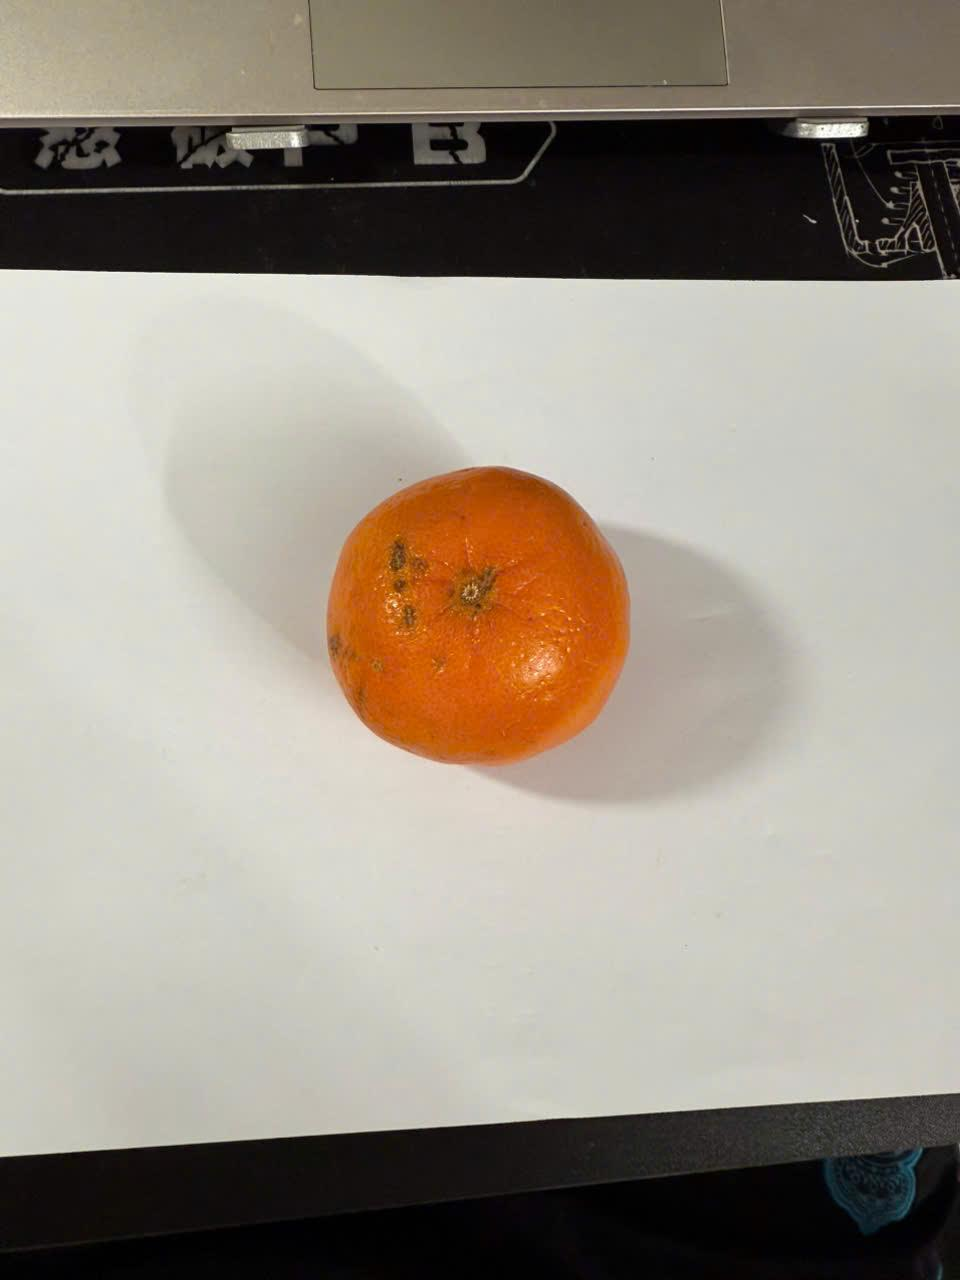orange: (302, 428, 658, 796)
